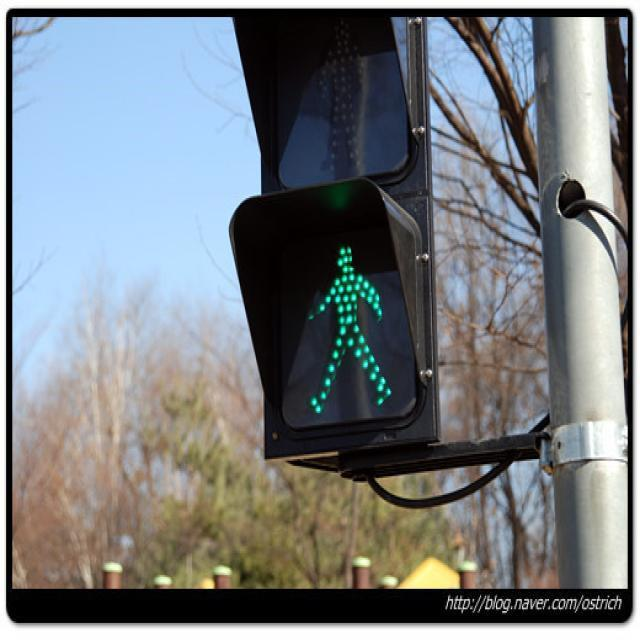green_light: (278, 246, 407, 414)
